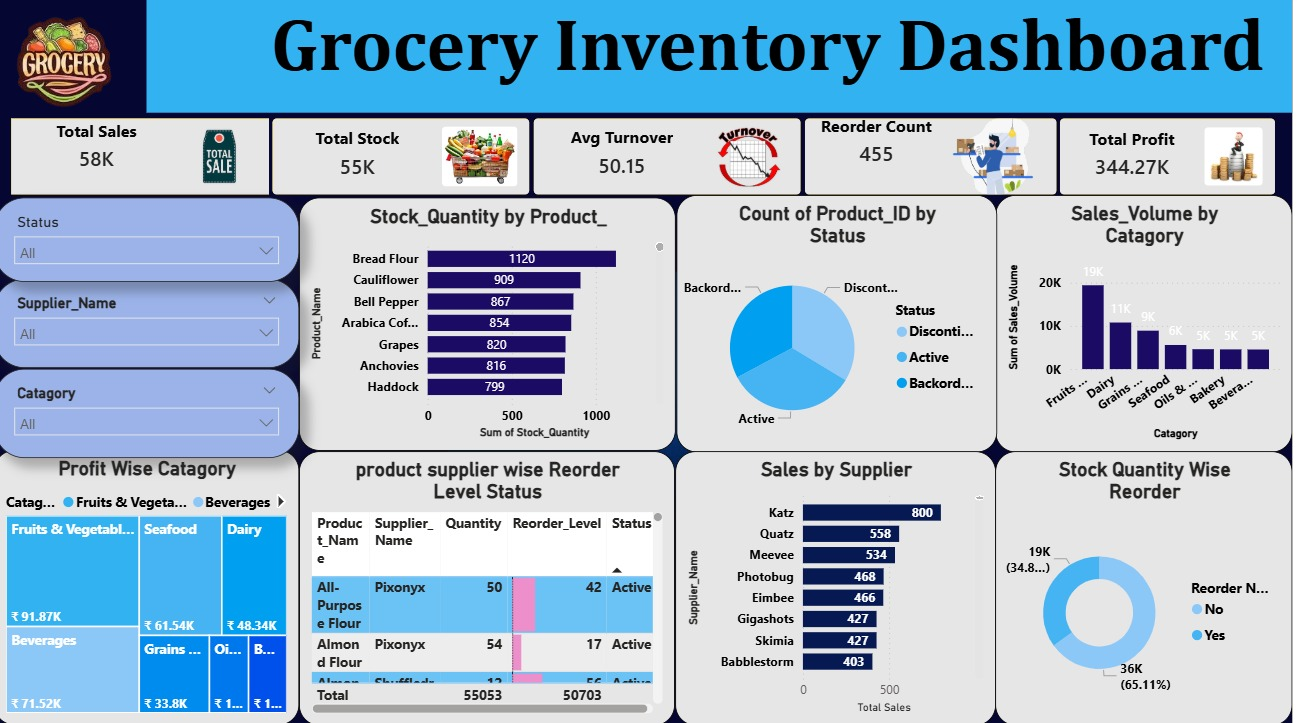

The page's visual inventory and layout, read from the dashboard file:
{"tool":"powerbi","page":{"name":"Grocery Inventory Dashboard","canvas":[1280,720],"ordinal":2},"visuals":[{"type":"image","box":[0,0,137.5,127.9],"z":0},{"type":"clusteredBarChart","title":" Stock_Quantity by Product_","fields":{"Y":["Sum(product.Stock_Quantity)"],"Category":["product.Product_Name"]},"box":[300.4,199.1,371.6,249.7],"z":1000},{"type":"clusteredColumnChart","title":"Sales_Volume by Catagory","fields":{"Category":["product.Catagory"],"Y":["Sum(product.Sales_Volume)"]},"box":[986.9,196.6,293.2,253.4],"z":2000},{"type":"pieChart","fields":{"Category":["product.Status"],"Y":["CountNonNull(product.Product_ID)"]},"box":[672,196.6,316.1,253.4],"z":3000},{"type":"barChart","title":"Sales by Supplier","fields":{"Category":["product.Supplier_Name"],"Y":["Measure Table.Total Sales"]},"box":[670.8,450,316.1,270.2],"z":4000},{"type":"donutChart","title":"Stock Quantity Wise Reorder ","fields":{"Category":["product.Reorder Needed"],"Y":["Sum(product.Stock_Quantity)"]},"box":[986.9,450,293.2,270.2],"z":5000},{"type":"tableEx","title":"product supplier wise Reorder Level Status","fields":{"Values":["product.Product_Name","product.Supplier_Name","Sum(product.Stock_Quantity)","Sum(product.Reorder_Level)","product.Status"]},"box":[300.4,450,370.4,270.2],"z":6000},{"type":"treemap","title":" Profit Wise Catagory","fields":{"Group":["product.Catagory"],"Values":["Measure Table.Total Profit"]},"box":[0,448.8,300.4,271.4],"z":7000},{"type":"cardVisual","fields":{"Data":["product.Total Sales"]},"box":[0,105,288.3,109.8],"z":8000},{"type":"cardVisual","fields":{"Data":["product.Total Stock"]},"box":[257,105,287.1,109.8],"z":9000},{"type":"cardVisual","fields":{"Data":["product.Avg Turnover"]},"box":[515.2,105,298,109.8],"z":10000},{"type":"cardVisual","fields":{"Data":["product.Reorder Count"]},"box":[781.8,105,282.3,109.8],"z":11000},{"type":"cardVisual","fields":{"Data":["Calendar.Total Profit"]},"box":[1033.9,105,246.1,109.8],"z":12000},{"type":"slicer","fields":{"Values":["product.Supplier_Name"]},"box":[0,279.9,300.4,88.1],"z":13000},{"type":"slicer","fields":{"Values":["product.Status"]},"box":[0,199.1,300.4,83.2],"z":14000},{"type":"textbox","box":[150.8,0,1129.2,115.8],"z":15000},{"type":"slicer","fields":{"Values":["product.Catagory"]},"box":[0,368,300.4,88.1],"z":16000}]}

Visuals, with their boxes in screenshot pixels (x1, y1, x2, y2), scaled from the page's 1280x720 canvas onto the 1297x723 screenshot:
image: BBox(0, 0, 139, 128)
" Stock_Quantity by Product_" clusteredBarChart: BBox(304, 200, 681, 451)
"Sales_Volume by Catagory" clusteredColumnChart: BBox(1000, 197, 1296, 452)
pieChart - product.Status x CountNonNull(product.Product_ID): BBox(681, 197, 1001, 452)
"Sales by Supplier" barChart: BBox(680, 452, 1000, 722)
"Stock Quantity Wise Reorder " donutChart: BBox(1000, 452, 1296, 722)
"product supplier wise Reorder Level Status" tableEx: BBox(304, 452, 680, 722)
" Profit Wise Catagory" treemap: BBox(0, 451, 304, 722)
cardVisual - product.Total Sales: BBox(0, 105, 292, 216)
cardVisual - product.Total Stock: BBox(260, 105, 551, 216)
cardVisual - product.Avg Turnover: BBox(522, 105, 824, 216)
cardVisual - product.Reorder Count: BBox(792, 105, 1078, 216)
cardVisual - Calendar.Total Profit: BBox(1048, 105, 1296, 216)
slicer - product.Supplier_Name: BBox(0, 281, 304, 370)
slicer - product.Status: BBox(0, 200, 304, 283)
textbox: BBox(153, 0, 1296, 116)
slicer - product.Catagory: BBox(0, 370, 304, 458)
